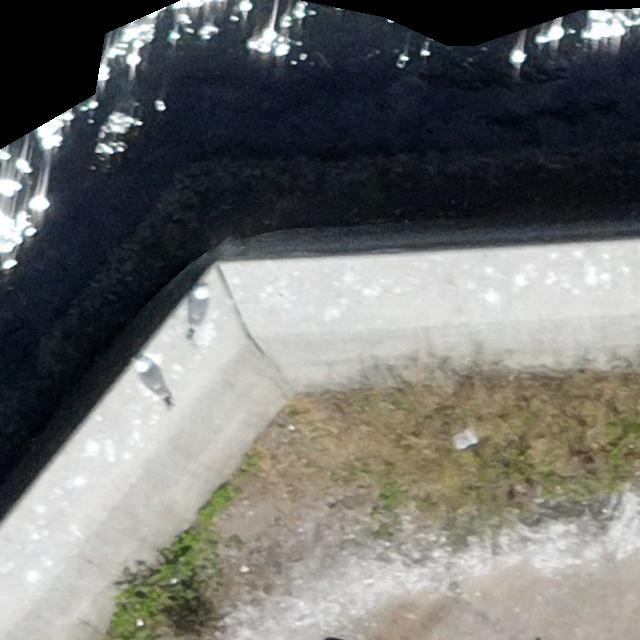umineko: (129, 358, 169, 403), (185, 286, 208, 335)
